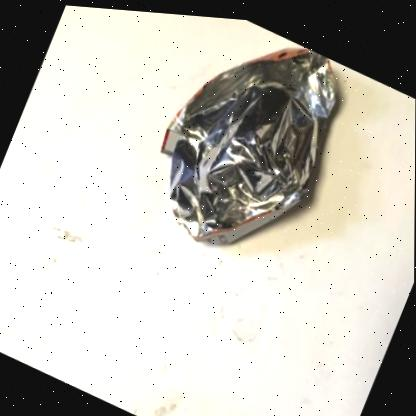Plastic: (161, 43, 336, 238)
